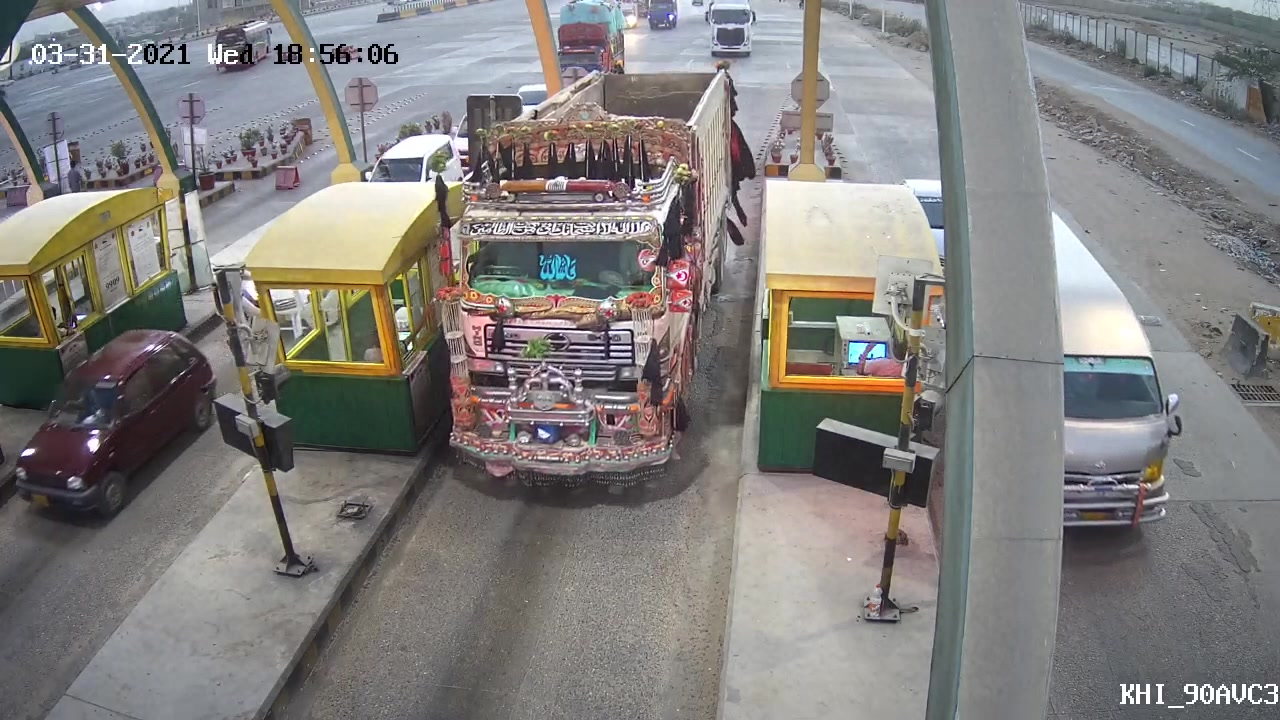F5: (431, 57, 739, 494)
